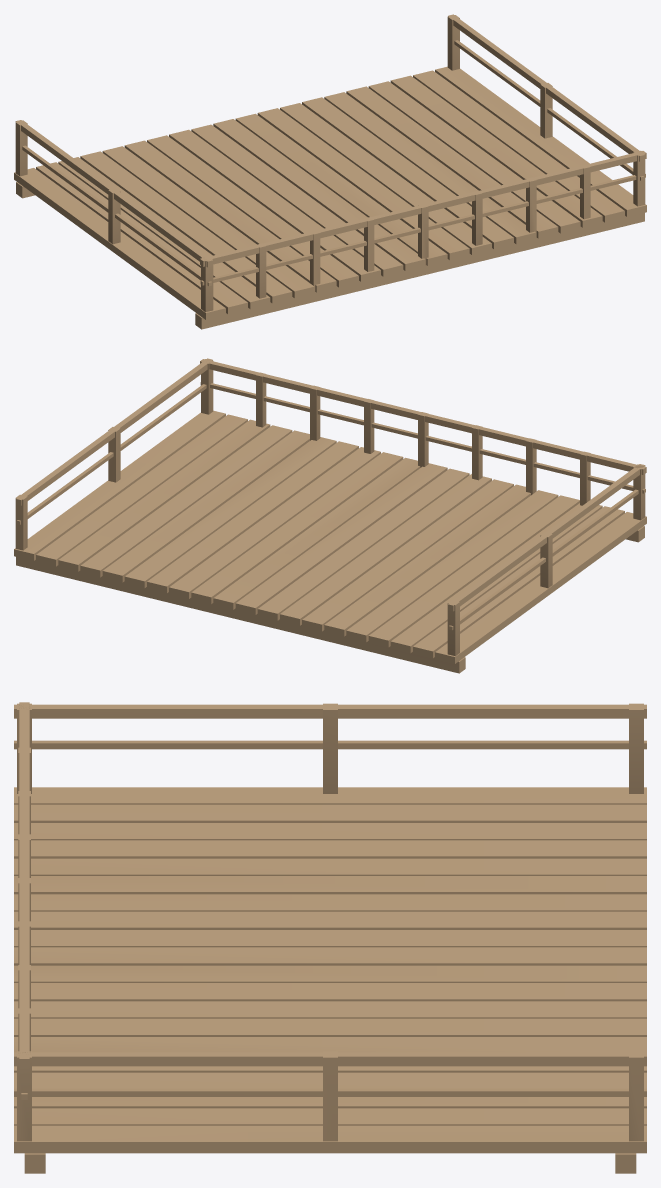
Rendered from VDeck.fbx.
3 renders of one model, top to bottom at view 1: azimuth 30°, elevation 25°; view 2: azimuth 150°, elevation 25°; view 3: azimuth 270°, elevation 25°, orthographic. The views are drawn at different scales.
Visible parts, largest first — view 1: VDeck; view 2: VDeck; view 3: VDeck.
Part boxes in pixels (box(x1,y1,x2,y2)): VDeck: box(14, 14, 646, 329); VDeck: box(14, 358, 646, 673); VDeck: box(14, 702, 646, 1173).
Bounding box in the file's own units: 8 × 1.2 × 6.
